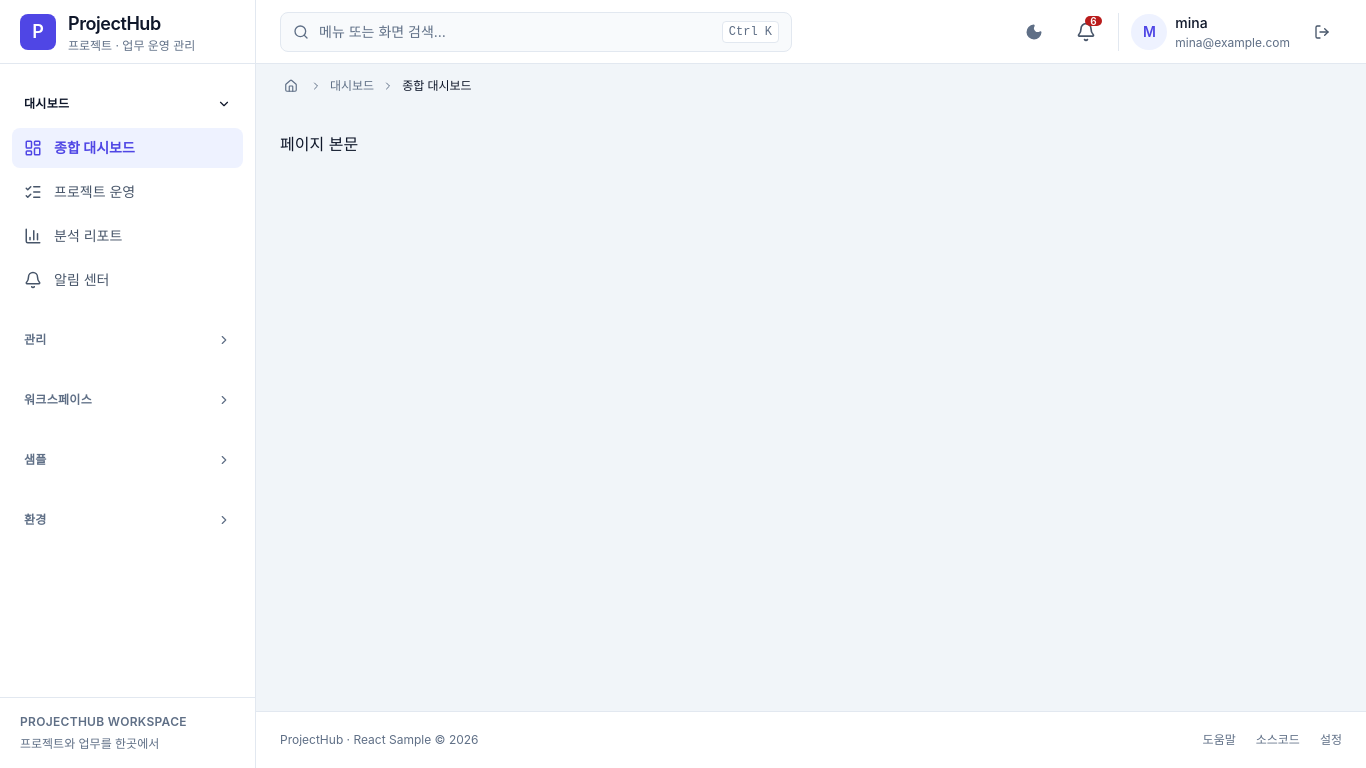
Test: authenticated application shell › 데스크톱 푸터에서 도움말을 열고 닫는다
The image size is (1366, 768).
Expected: the footer shows "ProjectHub", [280, 732, 449, 747]
Step 1. Click the button "도움말" → x=1219, y=740, box [1203, 728, 1236, 752]
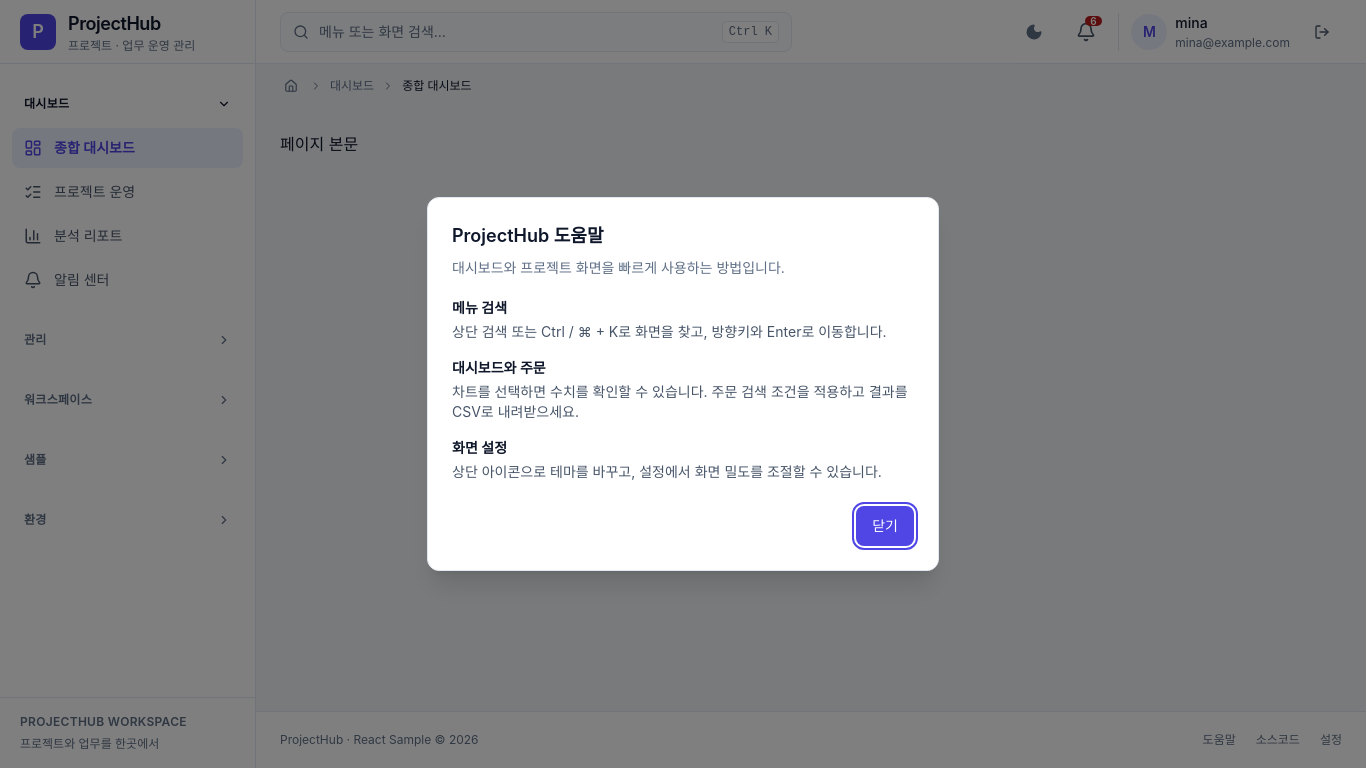
Expected: the dialog "ProjectHub 도움말" shows "메뉴 검색", [452, 299, 507, 316]
Step 2. Click the button "닫기" → x=885, y=526, box [856, 506, 914, 546]
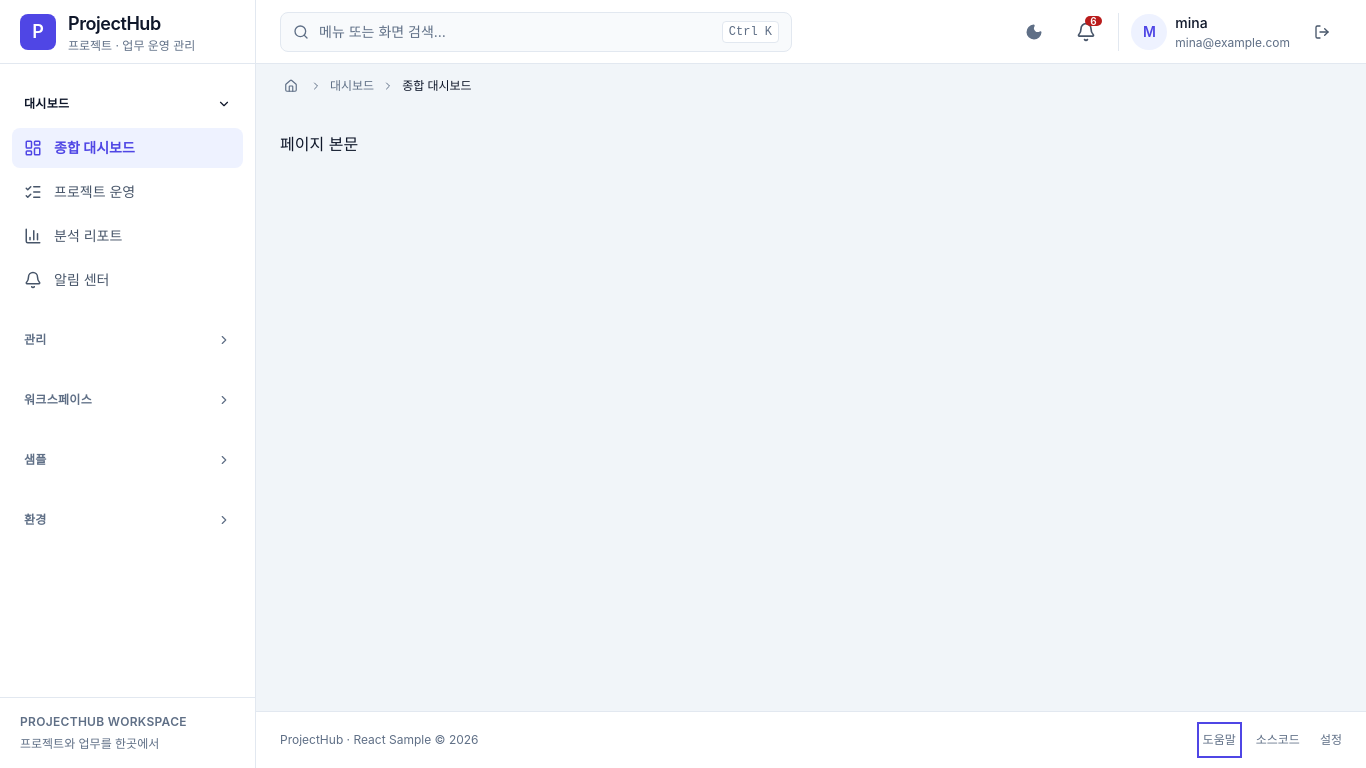
Expected: the dialog is gone
